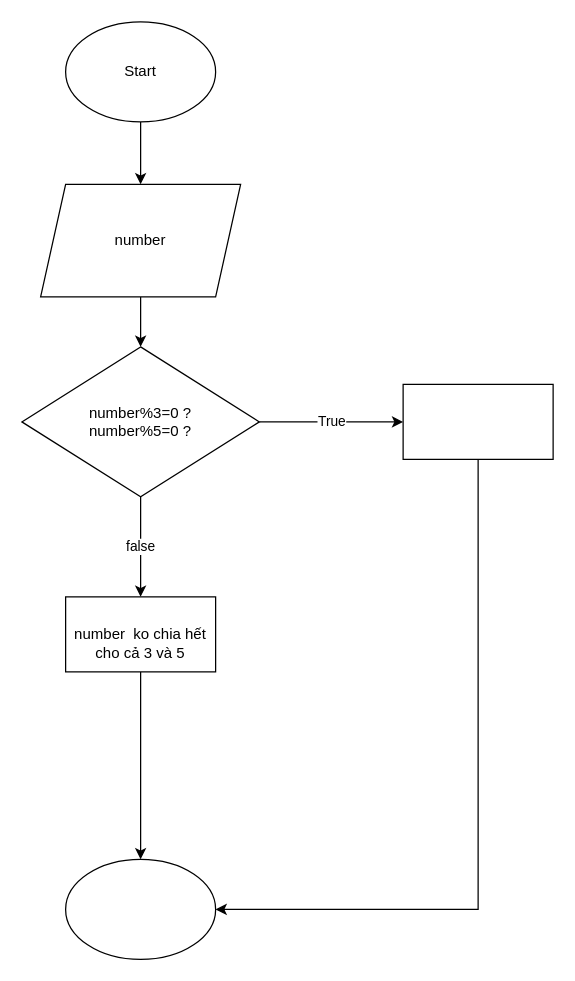
Some shapes in this 575 by 981 pixel diagram are drawn without their labels. Here are the shapes that lost their labels. From the top down, the centre of each, then its label:
At [477,421]: "number chia hết cho cả 3 và 5".
At [140,908]: "end".
